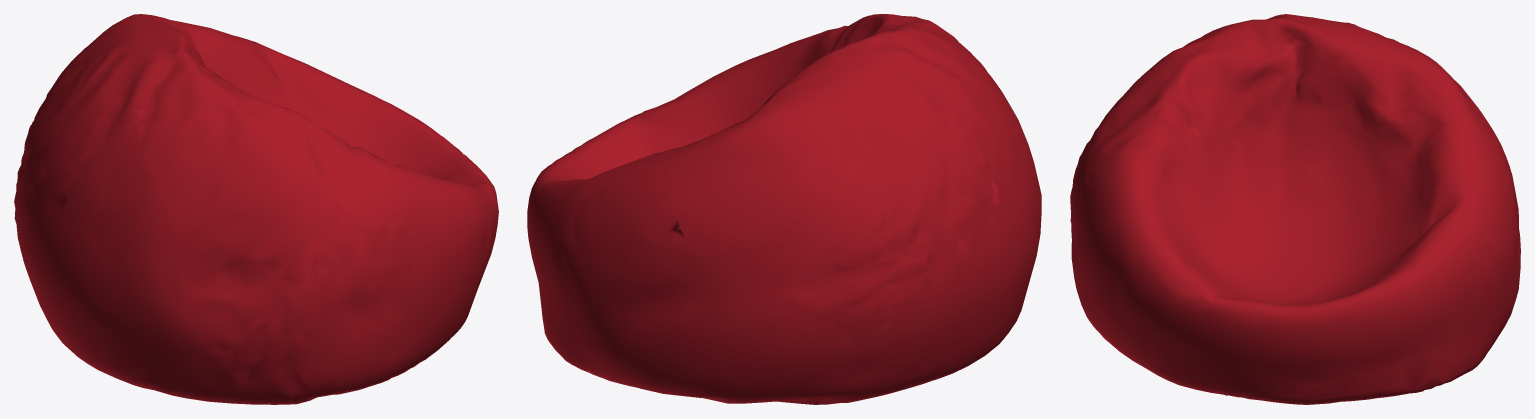
The model's file is armutoturma.fbx.
The picture shows the model from 3 angles, left to right: view 1: azimuth 30°, elevation 25°; view 2: azimuth 150°, elevation 25°; view 3: azimuth 270°, elevation 25°; orthographic projection. The views are drawn at different scales.
Parts seen in each view (by area): view 1: low poly; view 2: low poly; view 3: low poly.
Part boxes in pixels (x1,y1,x2,y2): low poly: [14, 14, 498, 404]; low poly: [527, 14, 1041, 404]; low poly: [1070, 14, 1520, 404].
Size of the model in its own units: 492 by 324 by 495.
